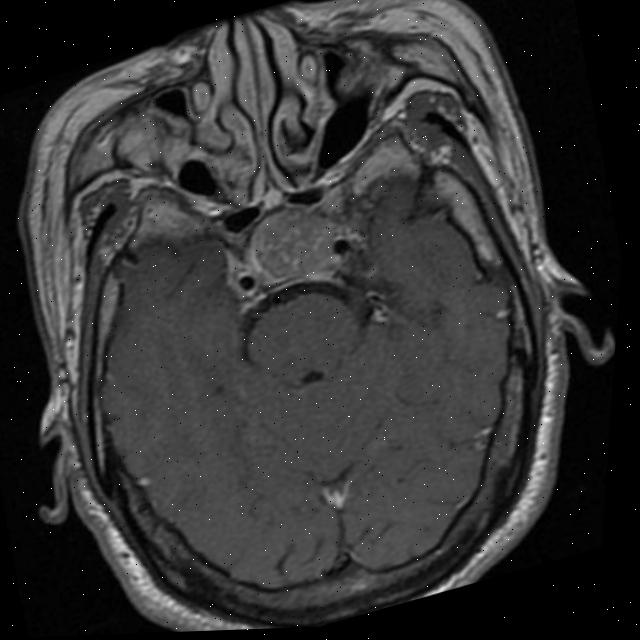Pituitary: (238, 200, 339, 290)
